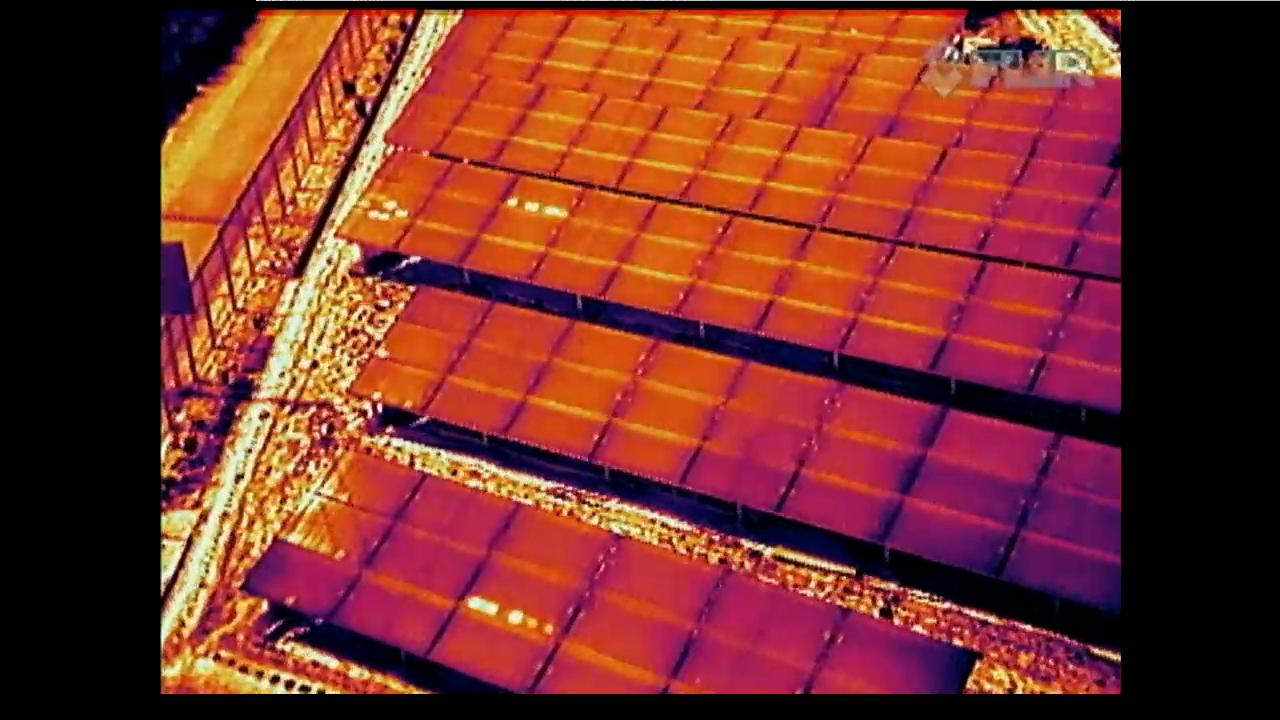hotspot: (420, 501, 605, 687), (351, 281, 492, 427), (468, 172, 589, 284), (345, 148, 445, 247)
